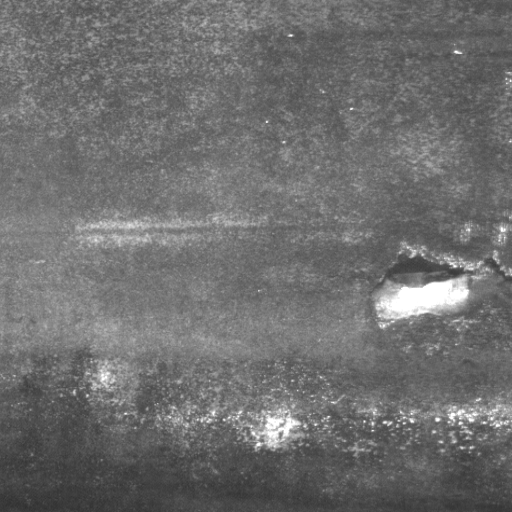qiaopi: (368, 247, 512, 332)
